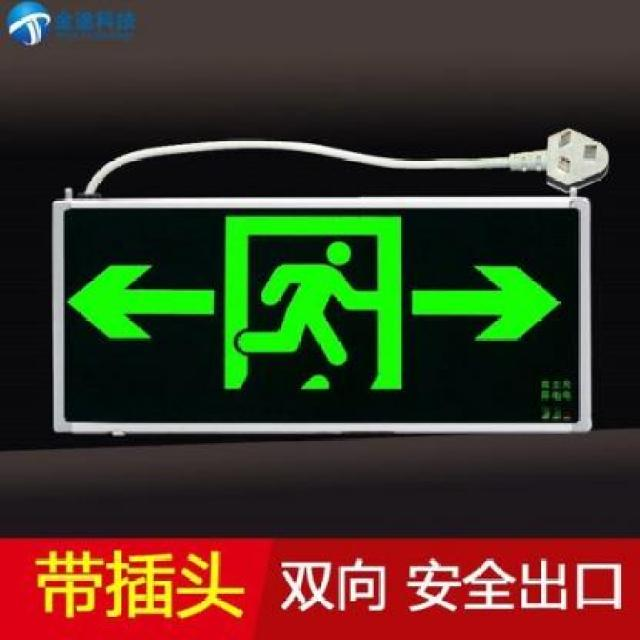exit_sign: (43, 171, 602, 456)
